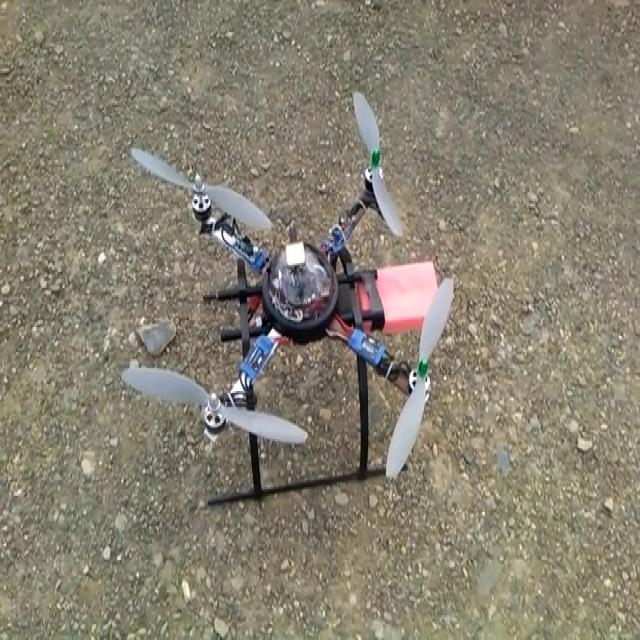drone: (119, 80, 455, 510)
